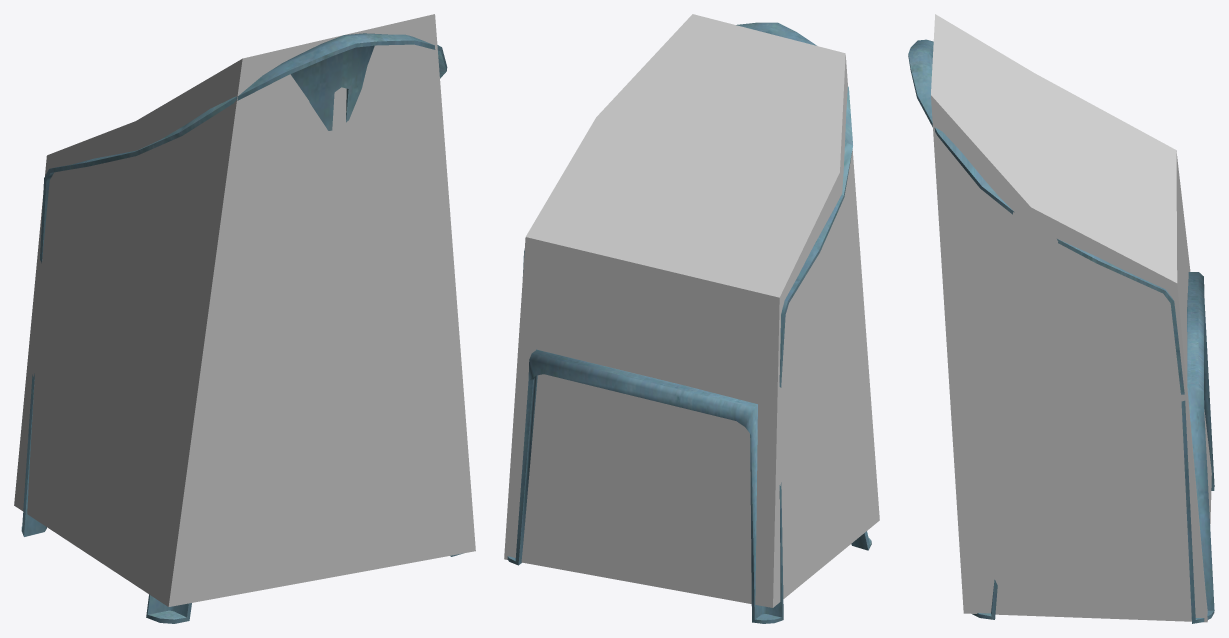
The model's file is chair_plastic_local.fbx.
3 renders of one model, left to right at view 1: azimuth 30°, elevation 25°; view 2: azimuth 150°, elevation 25°; view 3: azimuth 270°, elevation 25°, orthographic. The views are drawn at different scales.
Parts seen in each view (by area): view 1: px_main_mesh, main_mesh; view 2: px_main_mesh, main_mesh; view 3: px_main_mesh, main_mesh.
Part boxes in pixels (bbox=[...]): px_main_mesh: bbox=[14, 14, 475, 606]; main_mesh: bbox=[21, 33, 463, 623]; px_main_mesh: bbox=[504, 14, 879, 607]; main_mesh: bbox=[507, 22, 871, 623]; px_main_mesh: bbox=[931, 14, 1211, 622]; main_mesh: bbox=[908, 39, 1214, 623].
Size of the model in its own units: 0.639 by 1.04 by 0.5739.
1 material, 1 textured.
